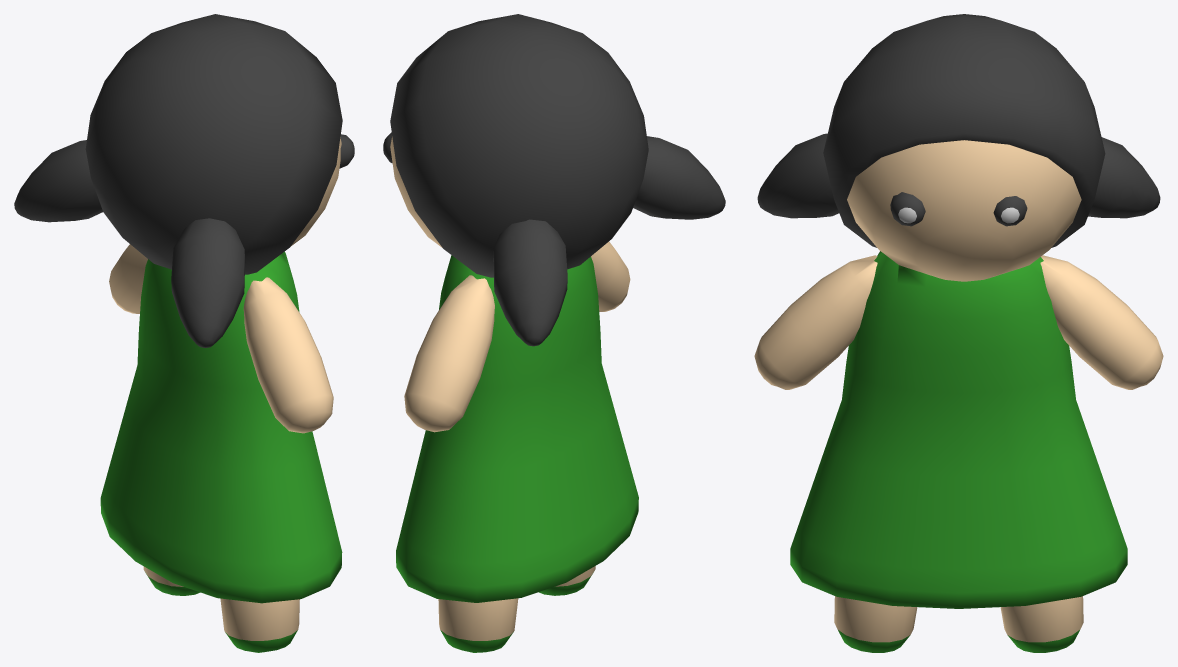
File: Doll3.fbx
3 renders of one model, left to right at view 1: azimuth 30°, elevation 25°; view 2: azimuth 150°, elevation 25°; view 3: azimuth 270°, elevation 25°, orthographic. The views are drawn at different scales.
Parts seen in each view (by area): view 1: Doll3; view 2: Doll3; view 3: Doll3.
Boxes of the visible parts, <box> form: Doll3: <box>14,14,354,652</box>; Doll3: <box>383,14,725,652</box>; Doll3: <box>754,14,1163,652</box>.
Size of the model in its own units: 25.22 by 62.83 by 37.55.
